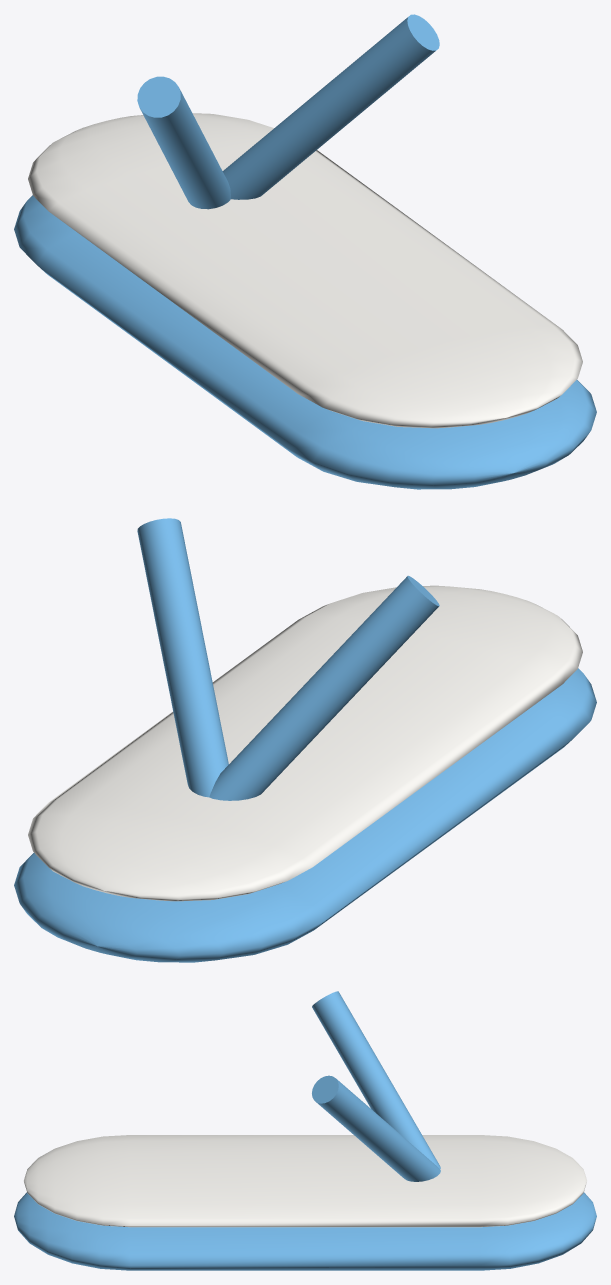
File: dep_to_ong.glb
3 renders of one model, top to bottom at view 1: azimuth 30°, elevation 25°; view 2: azimuth 150°, elevation 25°; view 3: azimuth 270°, elevation 25°, orthographic. The views are drawn at different scales.
Parts seen in each view (by area): view 1: Cap2, Cap1, Cyl2, Cyl1; view 2: Cap2, Cap1, Cyl1, Cyl2; view 3: Cap2, Cap1, Cyl1, Cyl2.
Boxes of the visible parts, x1,y1,x2,y2 form: Cap2: (28,113,582,428); Cap1: (14,195,596,489); Cyl2: (222,14,439,199); Cyl1: (137,76,230,209); Cap2: (28,585,582,901); Cap1: (14,668,596,962); Cyl1: (209,575,439,800); Cyl2: (137,518,228,797); Cap2: (24,1135,586,1227); Cap1: (14,1192,596,1270); Cyl1: (312,991,440,1168); Cyl2: (312,1075,440,1181).
Bounding box in the file's own units: 0.1239 × 0.1164 × 0.3.
